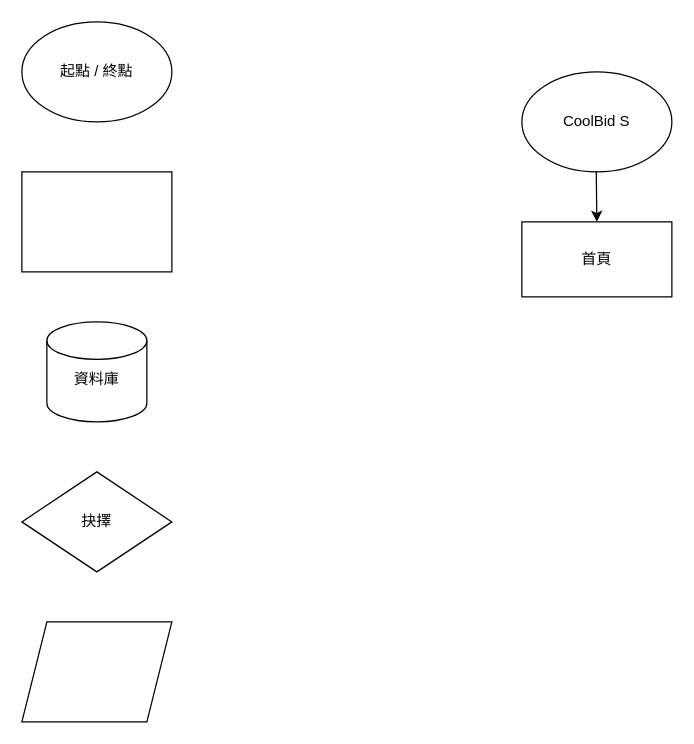
This 694x744 diagram has some shape labels left out. Here are the shapes that lost their labels. From the top down, the box of each, then its label:
(21, 171, 172, 272): 流程
(21, 621, 172, 722): 數據
